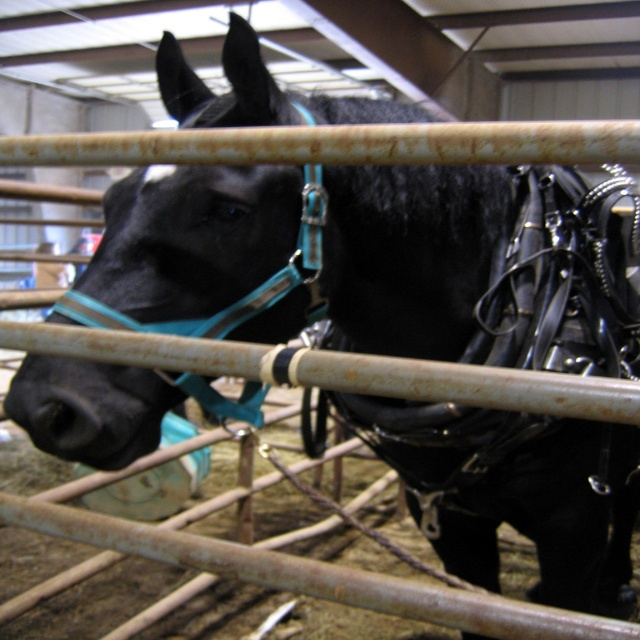Horse: (2, 12, 640, 640)
